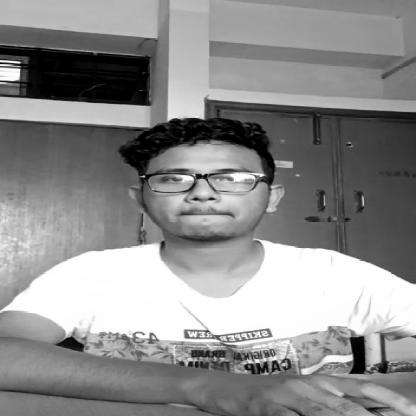Normal: (95, 116, 289, 246)
